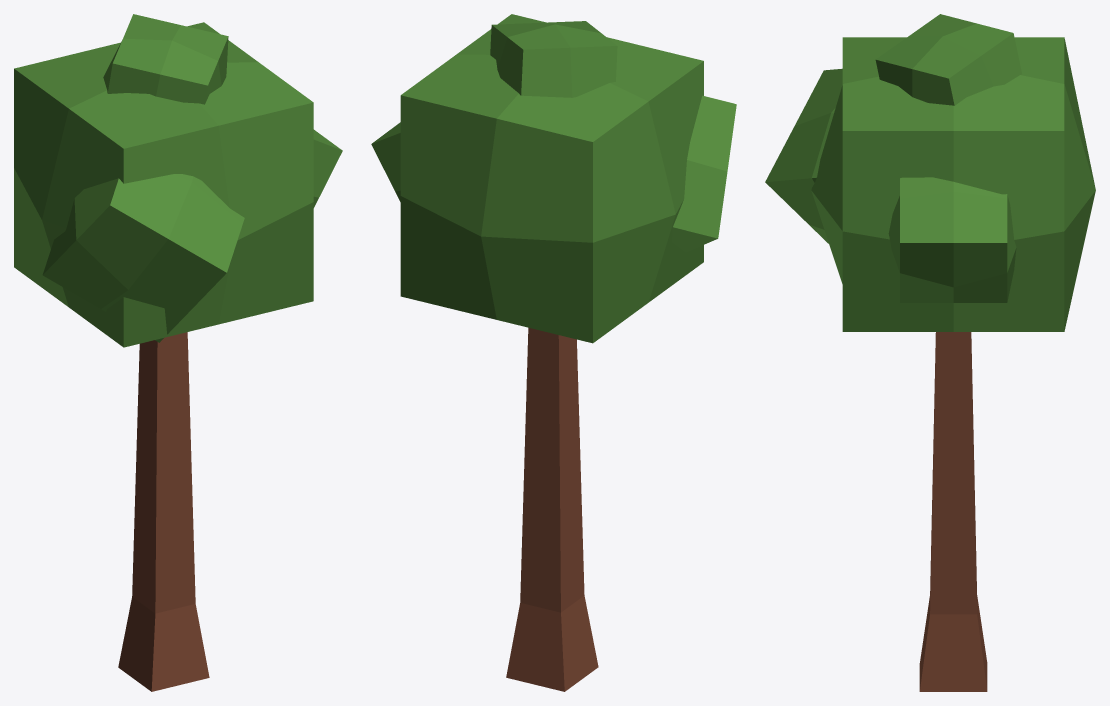
The model's file is Tree_43_summer_vc.fbx.
3 views of the same model, side by side, from view 1: azimuth 30°, elevation 25°; view 2: azimuth 150°, elevation 25°; view 3: azimuth 270°, elevation 25° (orthographic).
Visible parts, largest first — view 1: Tree_43_summer_vc; view 2: Tree_43_summer_vc; view 3: Tree_43_summer_vc.
Boxes of the visible parts, x1=… form: Tree_43_summer_vc: x1=14, y1=14, x2=342, y2=691; Tree_43_summer_vc: x1=371, y1=14, x2=736, y2=691; Tree_43_summer_vc: x1=765, y1=14, x2=1095, y2=691.
Size of the model in its own units: 76.72 by 158 by 73.68.
